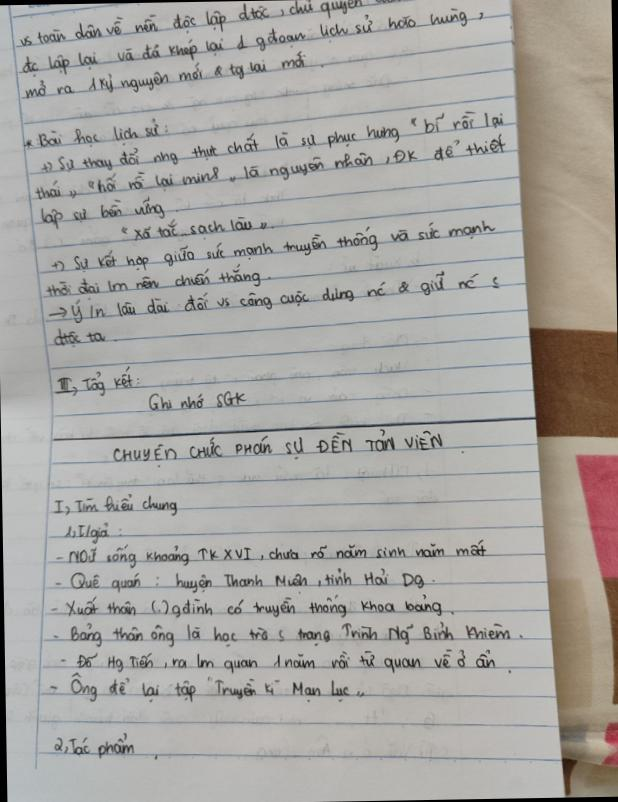text: (15, 3, 486, 80), (30, 130, 508, 204), (39, 106, 506, 177), (45, 267, 502, 327), (48, 218, 497, 277), (16, 0, 473, 50), (48, 612, 514, 652), (59, 644, 499, 683), (52, 536, 487, 573), (24, 47, 308, 103), (109, 424, 445, 470), (48, 590, 443, 628), (50, 666, 365, 708), (50, 564, 428, 598), (44, 261, 262, 300), (22, 115, 168, 153), (37, 194, 168, 234), (117, 214, 272, 244), (50, 490, 179, 521), (52, 364, 140, 402), (145, 387, 248, 415), (52, 730, 136, 762), (50, 326, 108, 350), (62, 521, 112, 547), (25, 5, 53, 10)
